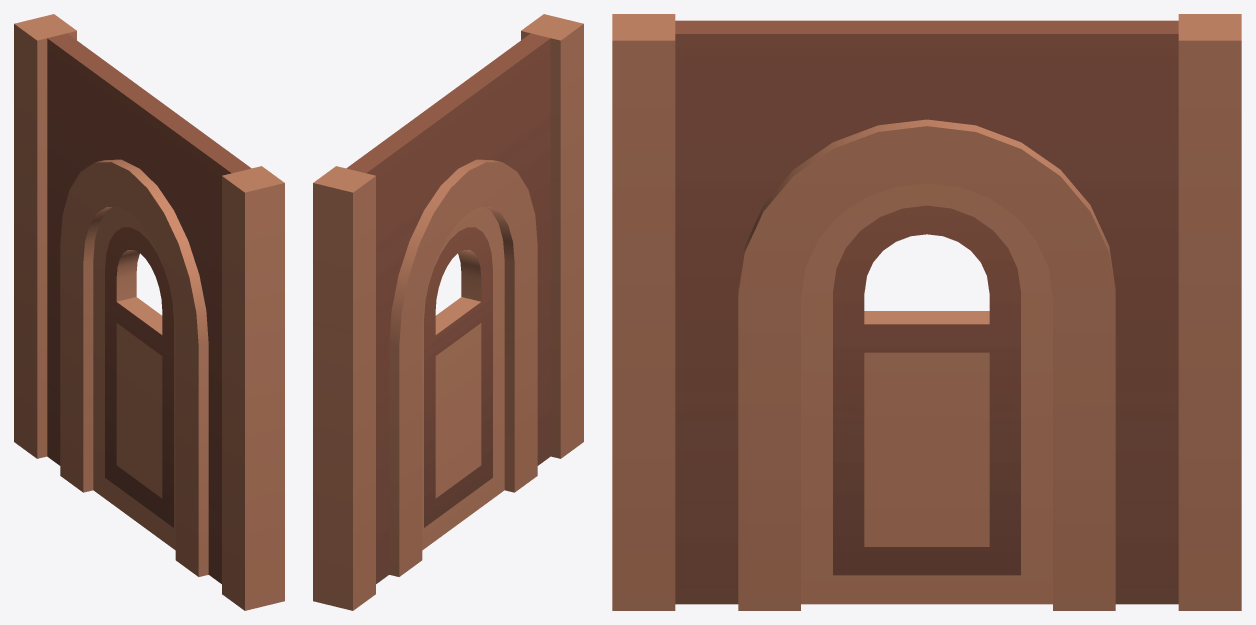
File: wall-wood-door.glb
The picture shows the model from 3 angles, left to right: view 1: azimuth 30°, elevation 25°; view 2: azimuth 150°, elevation 25°; view 3: azimuth 270°, elevation 25°; orthographic projection. The views are drawn at different scales.
Parts seen in each view (by area): view 1: wall-wood-door, door; view 2: wall-wood-door, door; view 3: wall-wood-door, door.
Part boxes in pixels (bbox=[...]): wall-wood-door: bbox=[14, 14, 284, 610]; door: bbox=[93, 207, 175, 550]; wall-wood-door: bbox=[313, 14, 583, 610]; door: bbox=[422, 207, 504, 550]; wall-wood-door: bbox=[612, 14, 1241, 610]; door: bbox=[801, 183, 1052, 604].
Bounding box in the file's own units: 0.1 × 1 × 1.
1 material, 1 textured.
